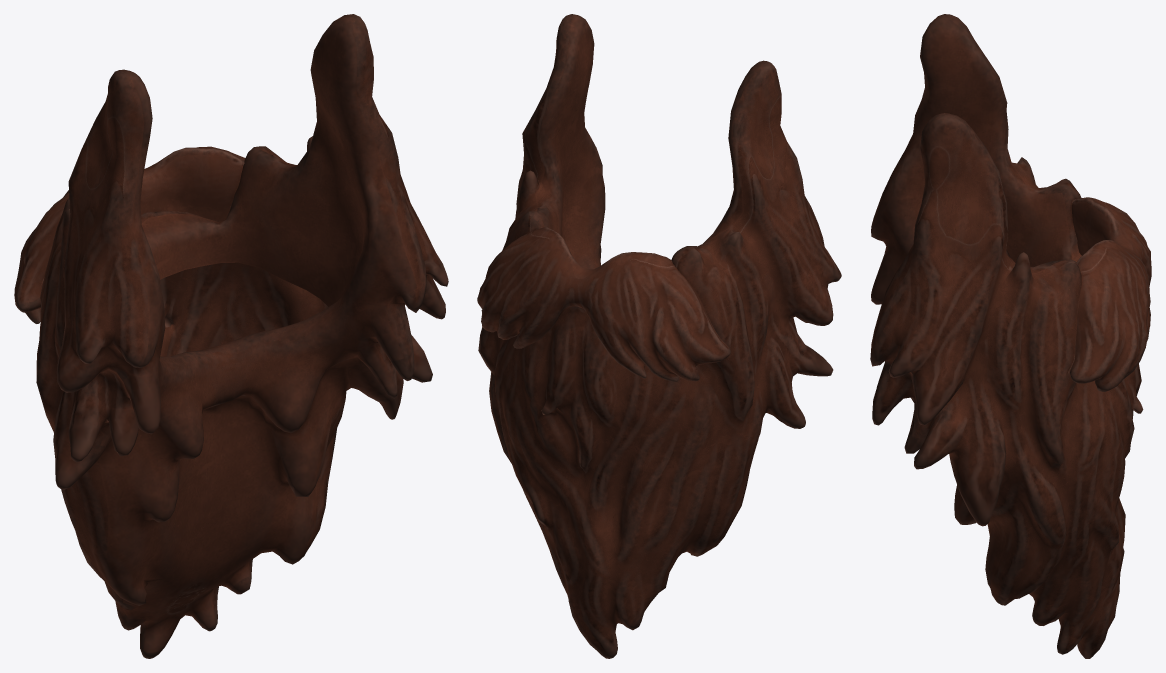
The model's file is fullBeard.gltf.
3 renders of one model, left to right at view 1: azimuth 30°, elevation 25°; view 2: azimuth 150°, elevation 25°; view 3: azimuth 270°, elevation 25°, orthographic. The views are drawn at different scales.
Visible parts, largest first — view 1: beard, mustache; view 2: beard, mustache; view 3: beard, mustache.
Boxes of the visible parts, x1=… form: beard: x1=36, y1=14, x2=448, y2=658; mustache: x1=14, y1=146, x2=245, y2=323; beard: x1=478, y1=14, x2=841, y2=658; mustache: x1=477, y1=227, x2=730, y2=381; beard: x1=870, y1=14, x2=1143, y2=658; mustache: x1=1070, y1=197, x2=1151, y2=391.
Bounding box in the file's own units: 1.15 × 1.92 × 0.8204.
2 materials, 2 textured.
